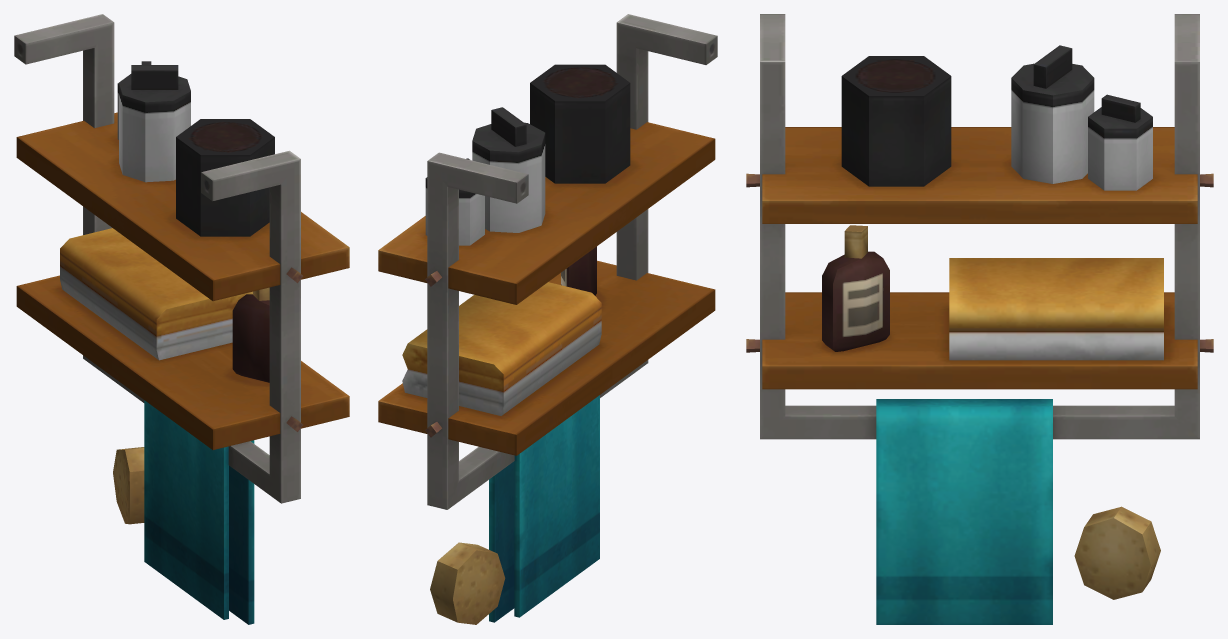
Rendered from TieredShelfTieredShelf.fbx.
3 renders of one model, left to right at view 1: azimuth 30°, elevation 25°; view 2: azimuth 150°, elevation 25°; view 3: azimuth 270°, elevation 25°, orthographic. The views are drawn at different scales.
Parts seen in each view (by area): view 1: TinyLiving_TieredShelf; view 2: TinyLiving_TieredShelf; view 3: TinyLiving_TieredShelf.
Boxes of the visible parts, <box> form: TinyLiving_TieredShelf: <box>14,14,349,624</box>; TinyLiving_TieredShelf: <box>378,14,717,624</box>; TinyLiving_TieredShelf: <box>746,14,1213,624</box>.
Size of the model in its own units: 29.65 by 103 by 78.26.
